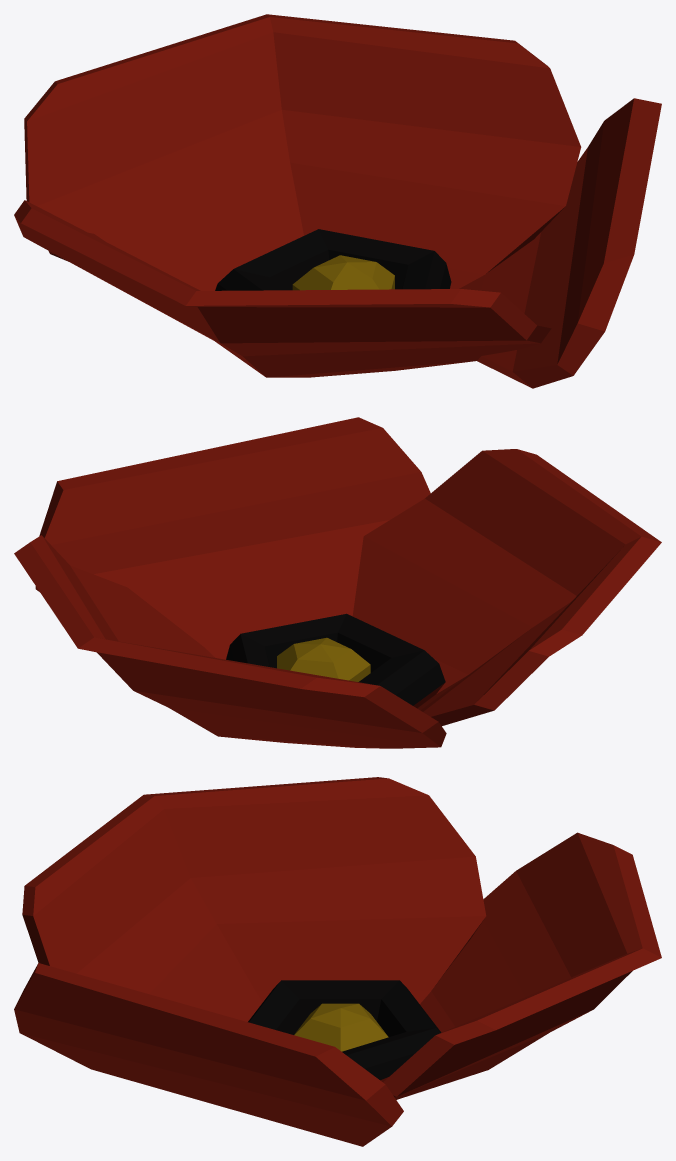
File: PoppyHead.glb
3 renders of one model, top to bottom at view 1: azimuth 30°, elevation 25°; view 2: azimuth 150°, elevation 25°; view 3: azimuth 270°, elevation 25°, orthographic. The views are drawn at different scales.
Visible parts, largest first — view 1: polySurface5.1; view 2: polySurface5.1; view 3: polySurface5.1.
Part boxes in pixels (box(x1,y1,x2,y2)): polySurface5.1: box(14, 14, 661, 388); polySurface5.1: box(14, 417, 661, 748); polySurface5.1: box(14, 777, 661, 1146).
Size of the model in its own units: 2.87 by 0.8762 by 2.85.
